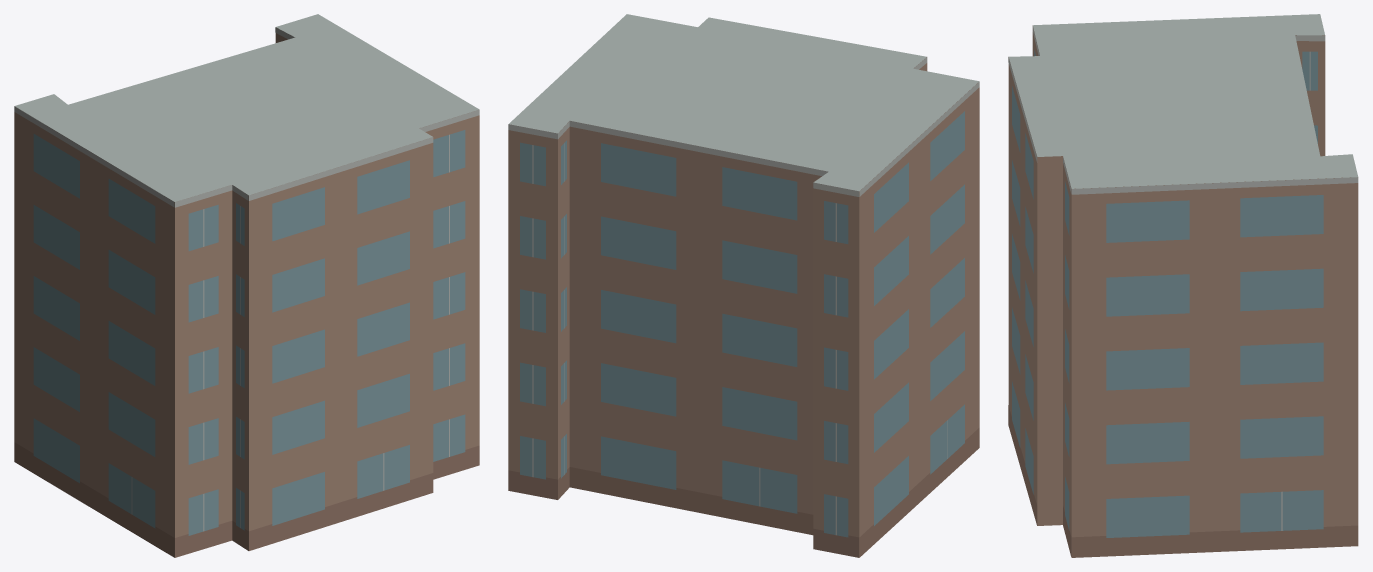
Rendered from survey-upis-32943657.glb.
3 views of the same model, side by side, from view 1: azimuth 30°, elevation 25°; view 2: azimuth 150°, elevation 25°; view 3: azimuth 270°, elevation 25° (orthographic). The views are drawn at different scales.
Visible parts, largest first — view 1: survey-upis-32943657.tmp; view 2: survey-upis-32943657.tmp; view 3: survey-upis-32943657.tmp.
Part boxes in pixels (x1,y1,x2,y2): survey-upis-32943657.tmp: (14,14,479,557); survey-upis-32943657.tmp: (508,14,979,557); survey-upis-32943657.tmp: (1008,14,1358,557).
Bounding box in the file's own units: 15.51 × 15.25 × 13.11.
